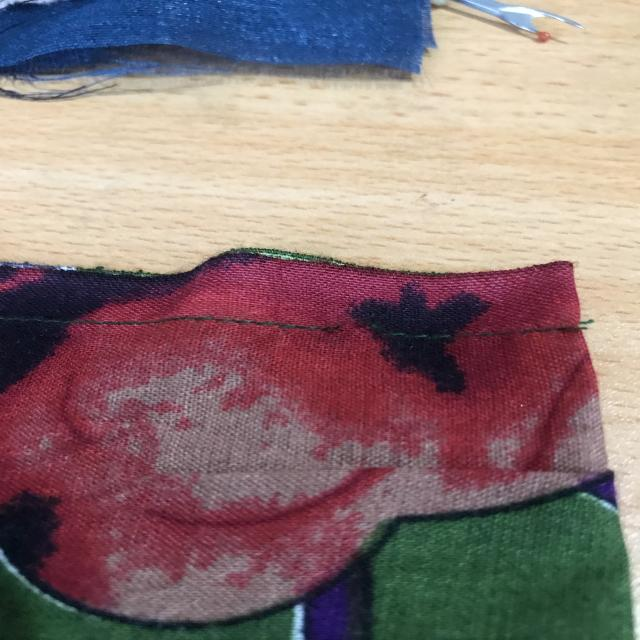broken: (323, 306, 403, 346)
